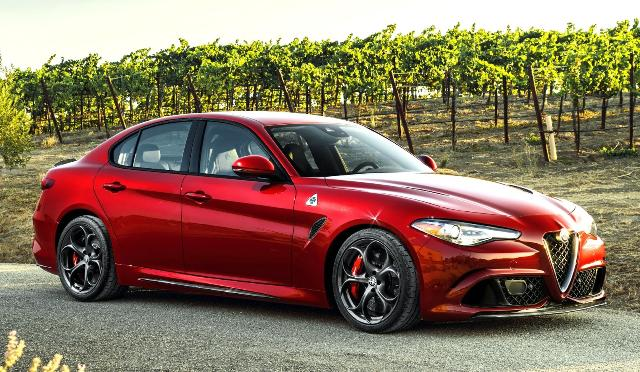alpha-romeo: (30, 110, 608, 334)
